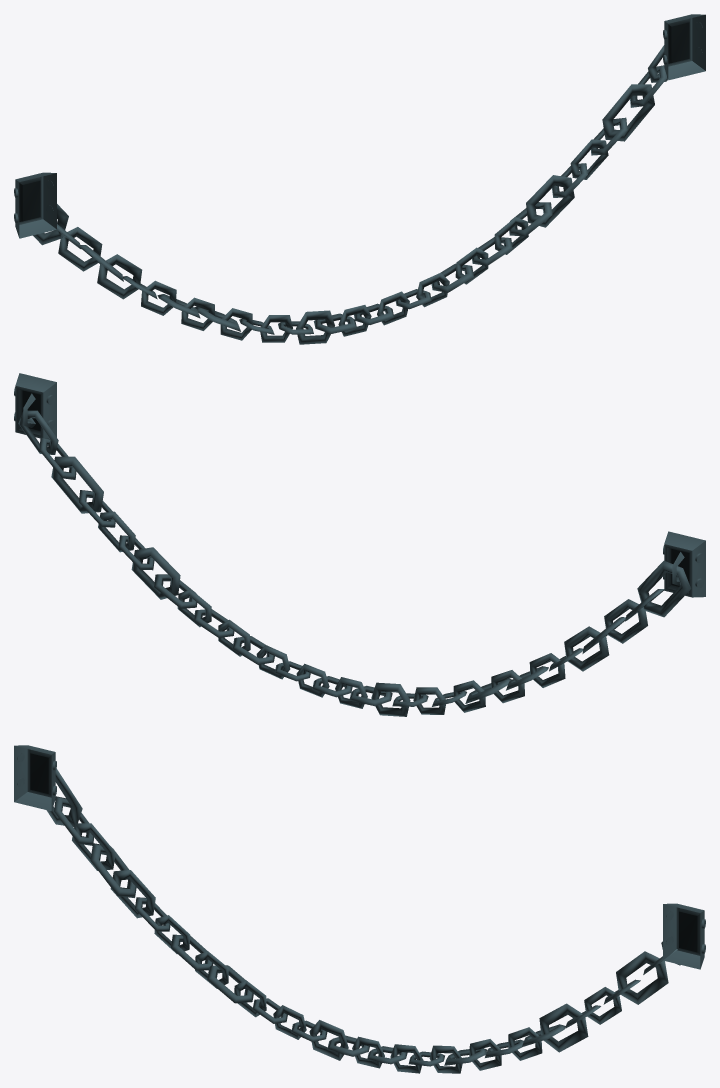
Rendered from obj_chain_arch_B_LOW.FBX.
3 views of the same model, one above another, from view 1: azimuth 30°, elevation 25°; view 2: azimuth 150°, elevation 25°; view 3: azimuth 330°, elevation 25° (orthographic).
Visible parts, largest first — view 1: obj_chain_arch_B_LOW; view 2: obj_chain_arch_B_LOW; view 3: obj_chain_arch_B_LOW.
Part boxes in pixels (x1,y1,x2,y2): obj_chain_arch_B_LOW: (14, 14, 705, 344); obj_chain_arch_B_LOW: (14, 373, 705, 716); obj_chain_arch_B_LOW: (14, 745, 705, 1073).
Size of the model in its own units: 5.67 by 1.93 by 0.2841.
